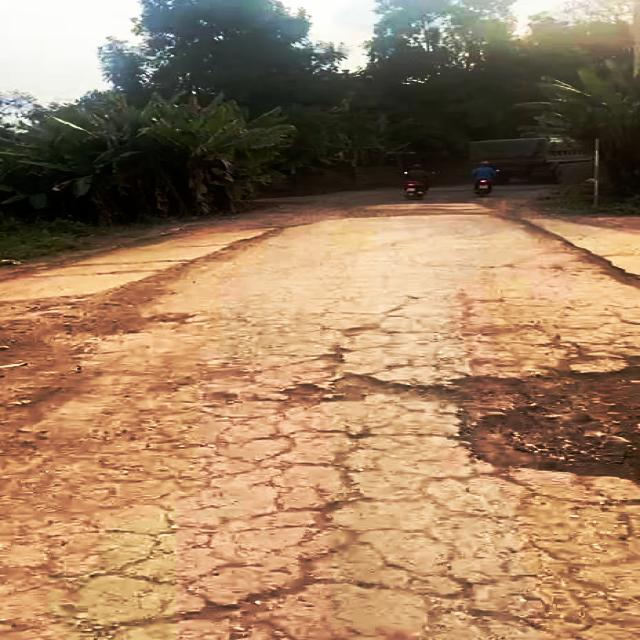pothole: (427, 346, 640, 482), (118, 570, 333, 640), (266, 364, 451, 407)
